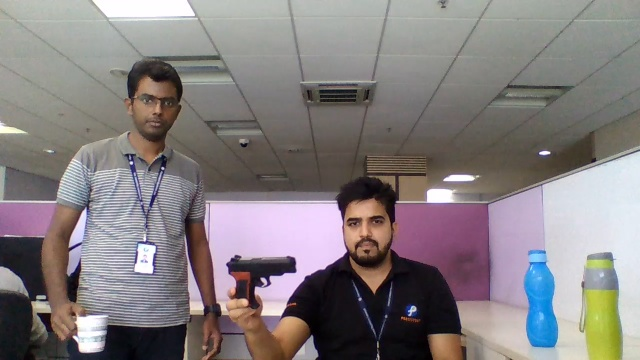gun: (226, 253, 297, 299)
